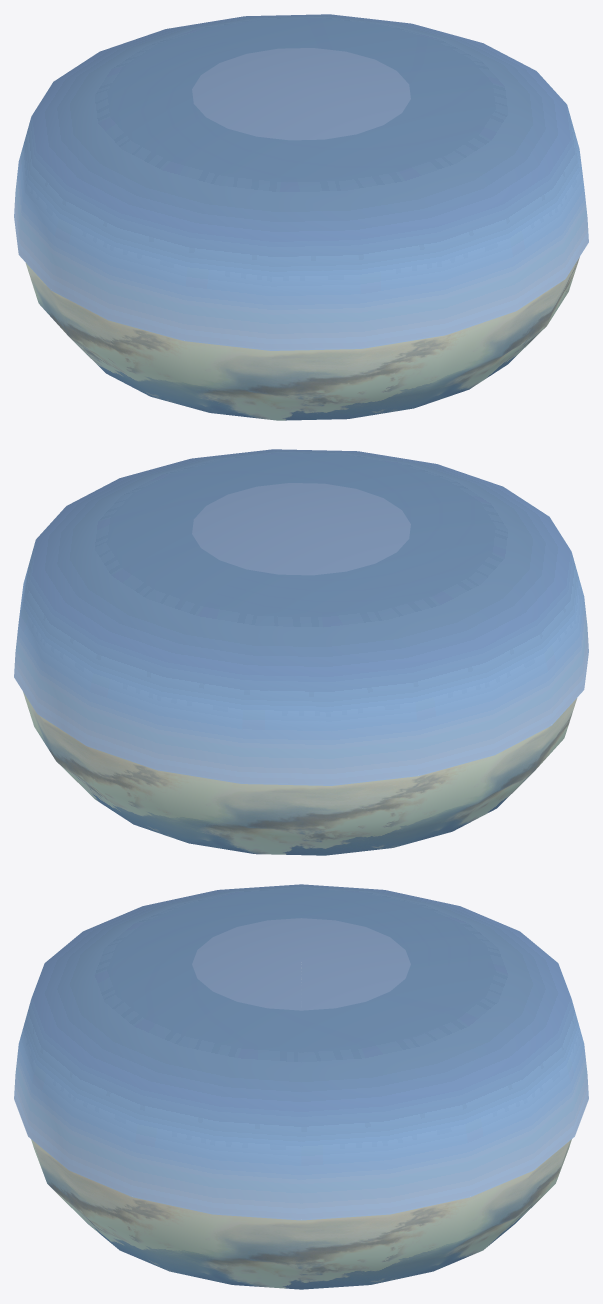
The model's file is stage-lake-sky.glb.
3 views of the same model, one above another, from view 1: azimuth 30°, elevation 25°; view 2: azimuth 150°, elevation 25°; view 3: azimuth 270°, elevation 25° (orthographic).
Parts seen in each view (by area): view 1: sky; view 2: sky; view 3: sky.
Part boxes in pixels (<box>): sky: <box>14,14,588,420</box>; sky: <box>14,449,588,855</box>; sky: <box>14,884,588,1289</box>.
Bounding box in the file's own units: 3605 × 1900 × 3605.
Materials: 4 (4 with a texture image).
